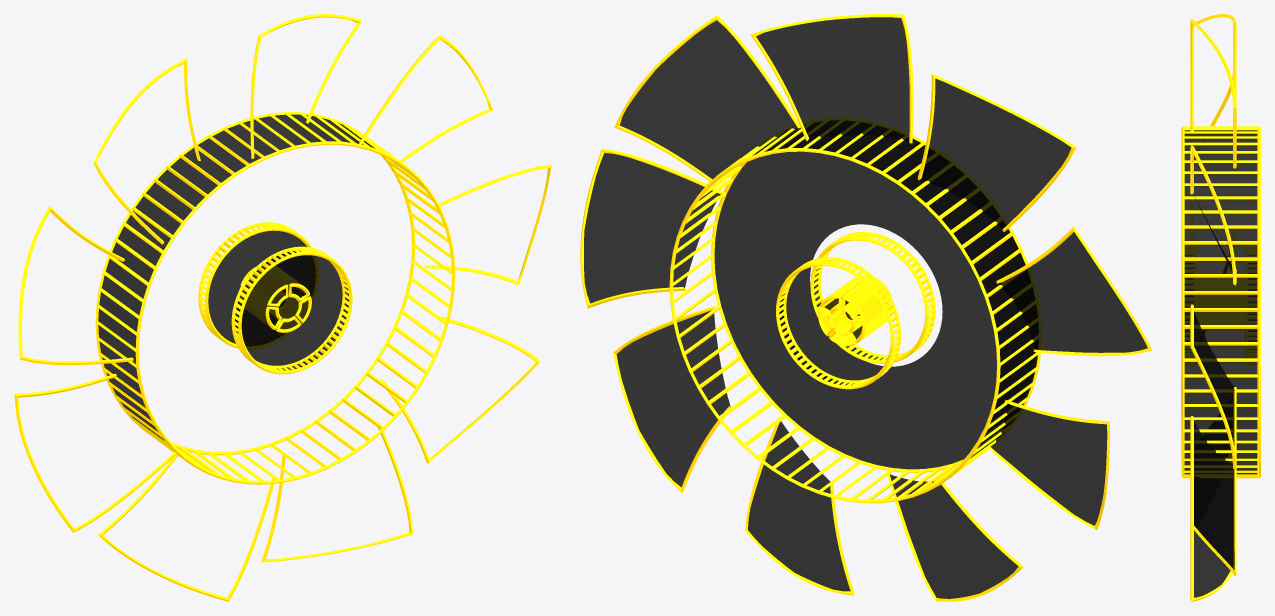
Rendered from fun001-panel-sub.glb.
3 views of the same model, side by side, from view 1: azimuth 30°, elevation 25°; view 2: azimuth 150°, elevation 25°; view 3: azimuth 270°, elevation 25° (orthographic). The views are drawn at different scales.
Parts seen in each view (by area): view 1: face-panel; view 2: face-panel; view 3: face-panel.
Part boxes in pixels (box(x1,y1,x2,y2)): face-panel: box(14, 14, 551, 601); face-panel: box(580, 14, 1152, 601); face-panel: box(1181, 14, 1260, 601).
Bounding box in the file's own units: 0.315 × 0.3141 × 0.0427.
